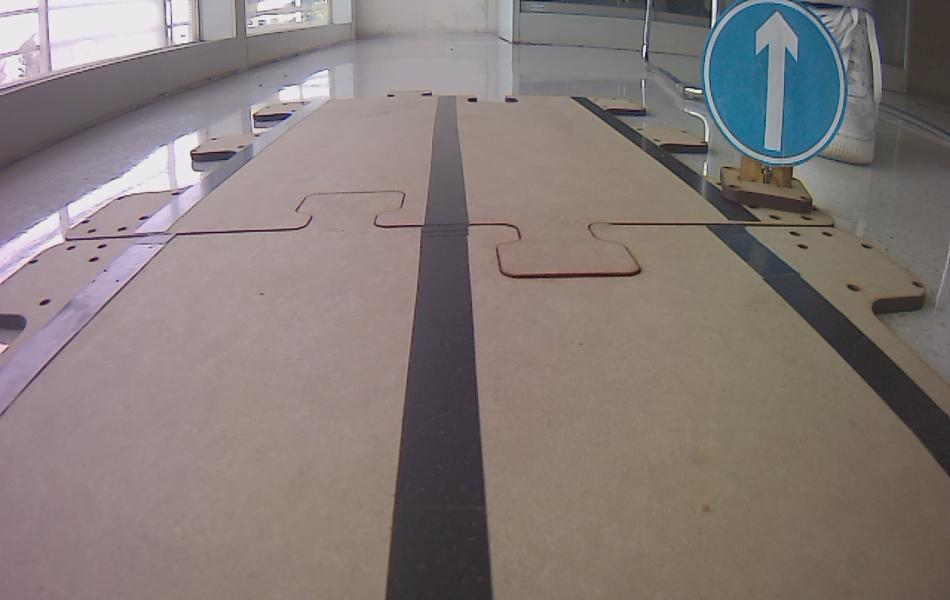straight: (700, 0, 846, 168)
